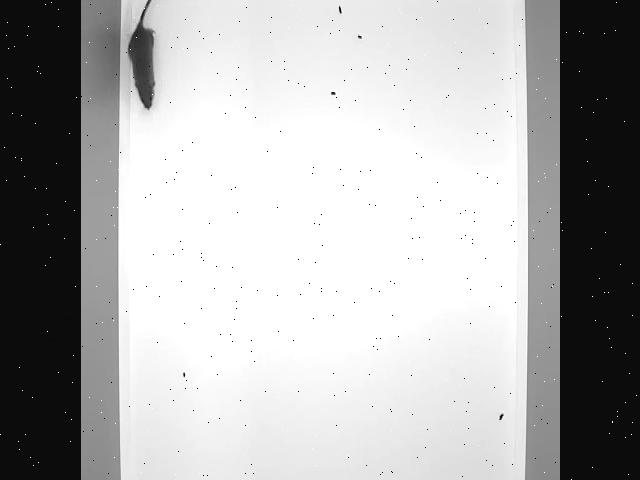Tikus: (123, 0, 189, 129)
